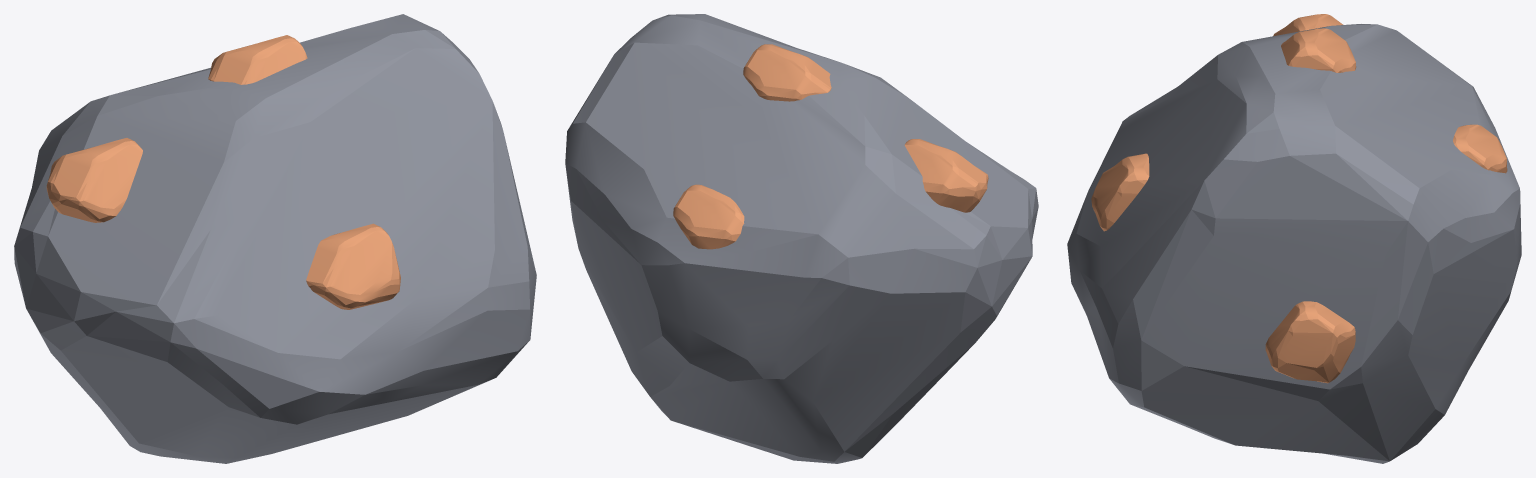
File: Ores.fbx
3 renders of one model, left to right at view 1: azimuth 30°, elevation 25°; view 2: azimuth 150°, elevation 25°; view 3: azimuth 270°, elevation 25°, orthographic. The views are drawn at different scales.
Parts seen in each view (by area): view 1: Rock_space.001; view 2: Rock_space.001; view 3: Rock_space.001.
Boxes of the visible parts, x1,y1,x2,y2 form: Rock_space.001: (14,14,536,463); Rock_space.001: (565,14,1038,463); Rock_space.001: (1067,14,1521,463).
Bounding box in the file's own units: 276 × 235 × 240.
